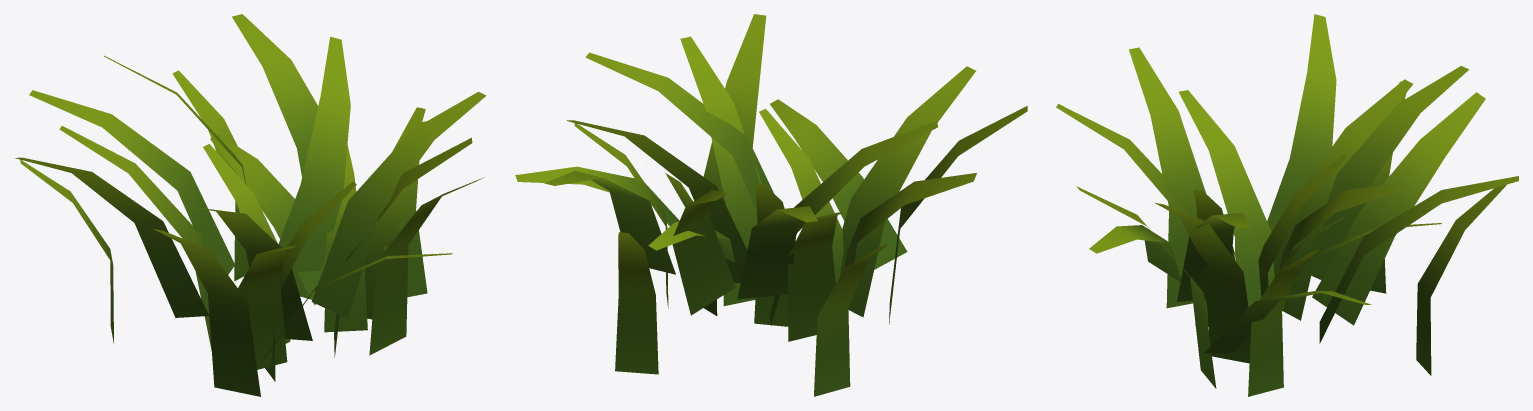
Rendered from SM_Grass.fbx.
3 renders of one model, left to right at view 1: azimuth 30°, elevation 25°; view 2: azimuth 150°, elevation 25°; view 3: azimuth 270°, elevation 25°, orthographic. The views are drawn at different scales.
Visible parts, largest first — view 1: grass8; view 2: grass8; view 3: grass8.
Part boxes in pixels (box(x1,y1,x2,y2)): grass8: box(15, 14, 486, 396); grass8: box(515, 14, 1027, 396); grass8: box(1056, 14, 1518, 396).
Bounding box in the file's own units: 68.46 × 34.19 × 64.97.
1 material, 1 textured.
